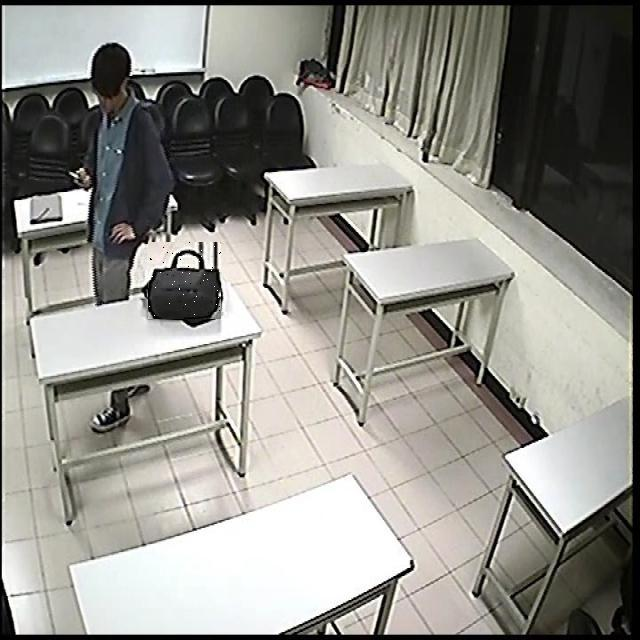abandoned-object: (148, 242, 221, 319)
